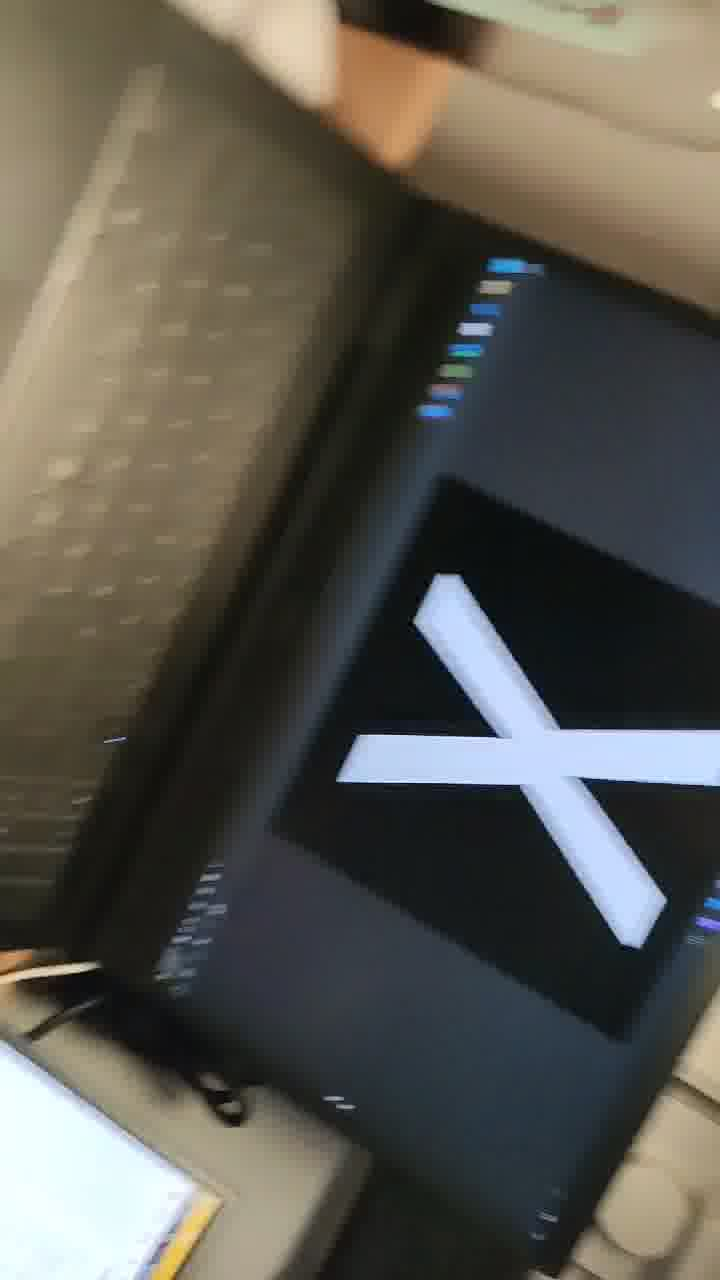X: (299, 515, 720, 1092)
